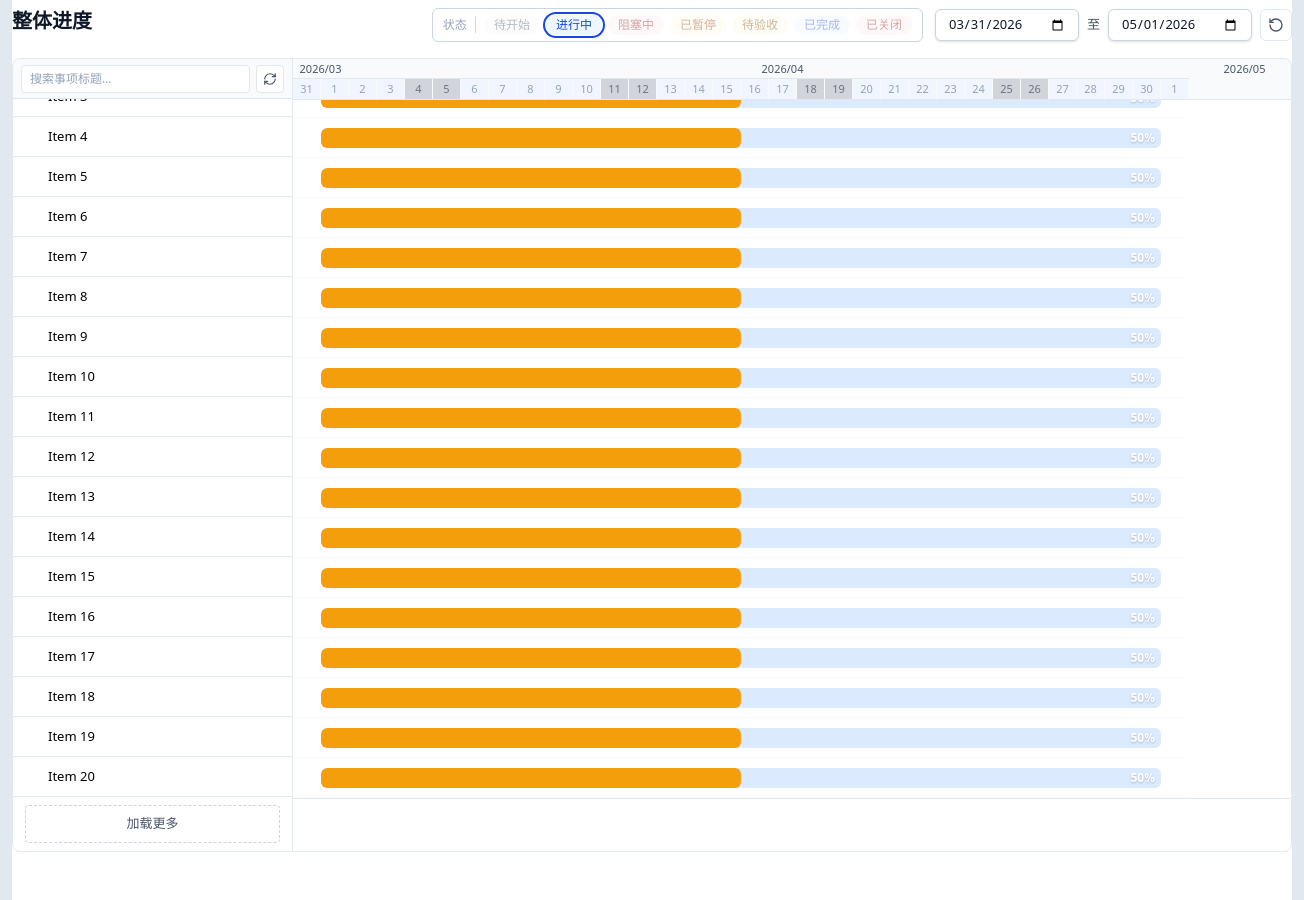
GanttViewPage › loads more items on button click
(page scrolled)
Expected: the text "Item 21" is not shown
# Click load more
Click the button with test id "load-more-btn". click: point(152, 824)
box: [25,805,280,842]
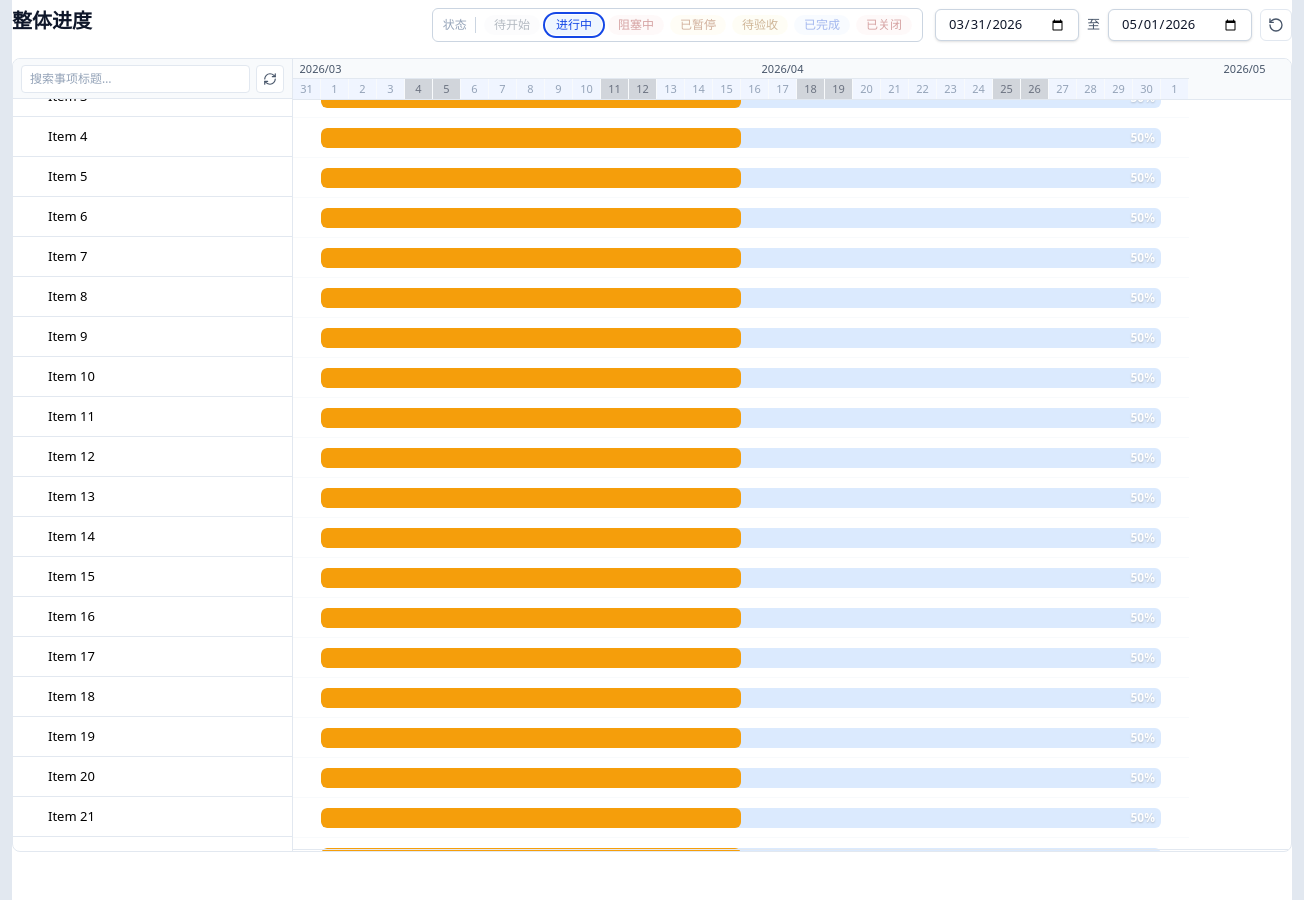
Result: the text "Item 21" is shown at [48,807,95,825]
